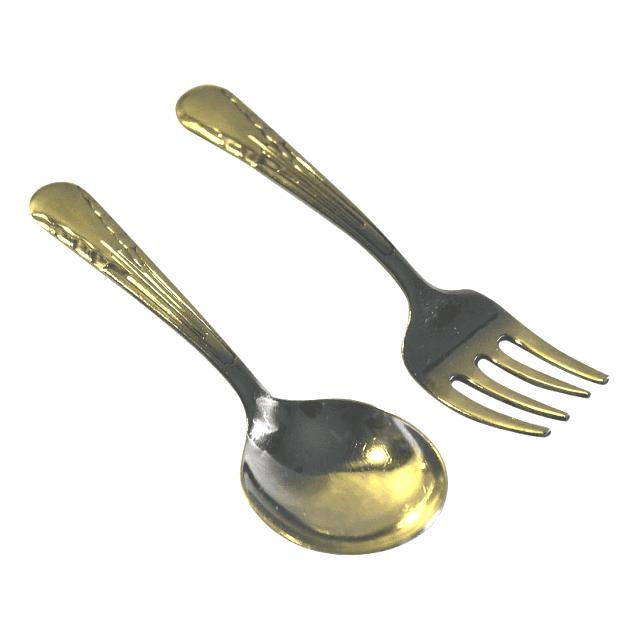Garpu: (167, 64, 618, 455)
Sendok: (23, 172, 471, 564)
